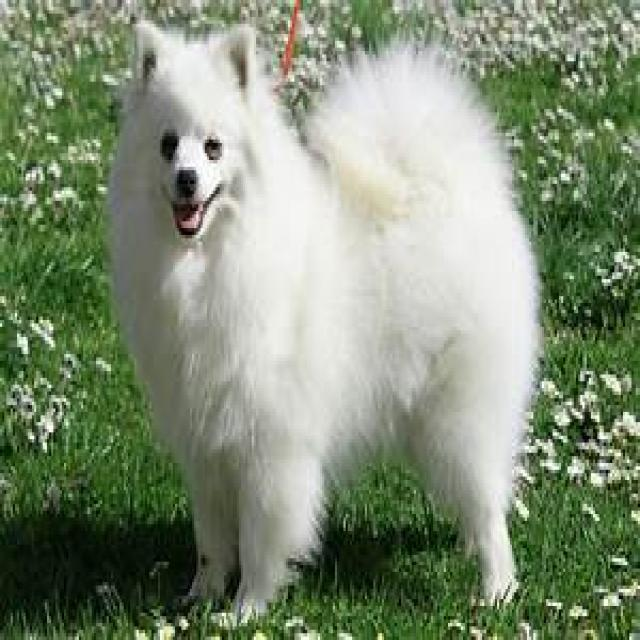animal: (109, 29, 540, 592)
